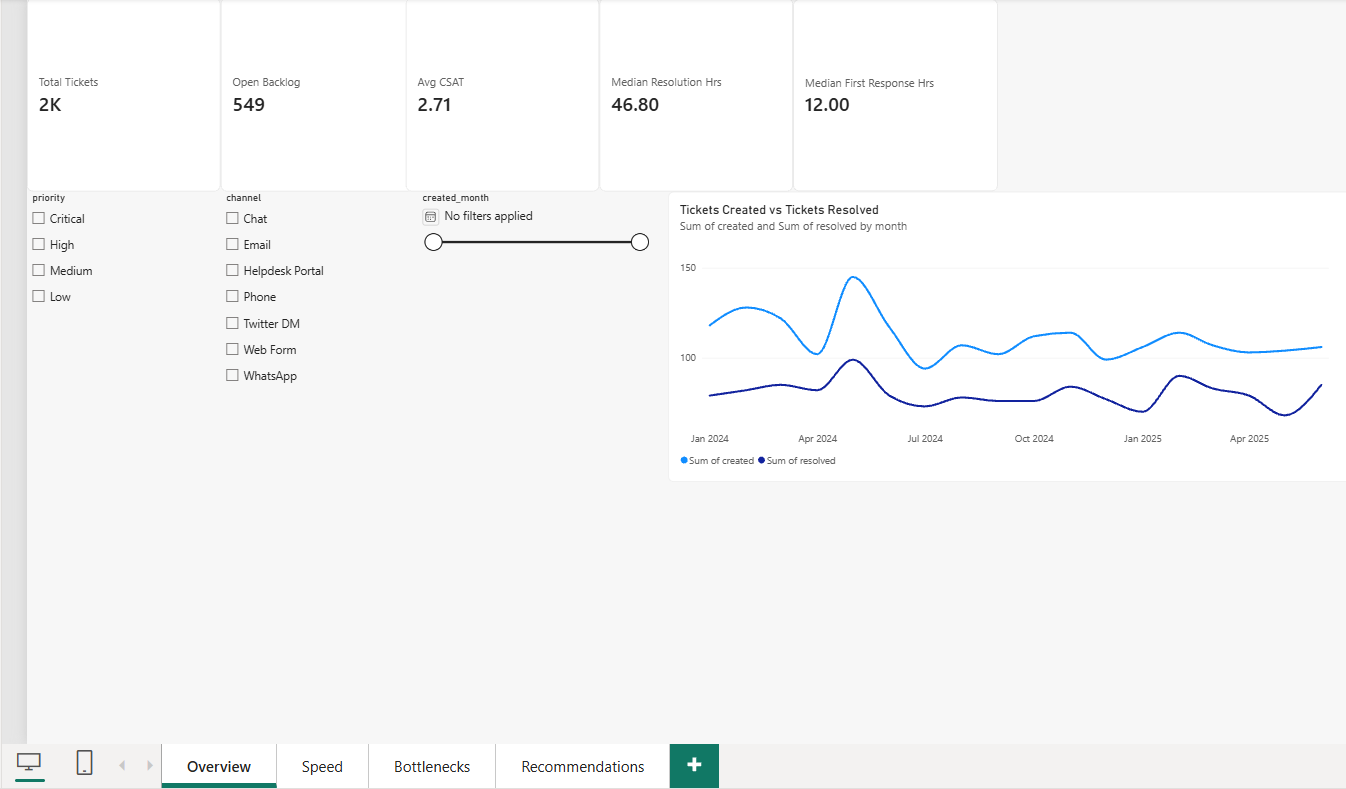

What the dashboard file says about the page in this screenshot:
{"tool":"powerbi","page":{"name":"Overview","canvas":[1920,1080],"ordinal":0},"visuals":[{"type":"cardVisual","fields":{"Data":["tickets.Total Tickets"]},"box":[0,0,280,280],"z":0},{"type":"cardVisual","fields":{"Data":["tickets.Open Backlog"]},"box":[280.5,0,280,280],"z":1000},{"type":"cardVisual","fields":{"Data":["tickets.Median Resolution Hrs"]},"box":[828.8,0,280,280],"z":2000},{"type":"cardVisual","fields":{"Data":["tickets.Median First Response Hrs"]},"box":[1109.3,1.8,296.8,278.7],"z":3000},{"type":"cardVisual","fields":{"Data":["tickets.Avg CSAT"]},"box":[548.3,0,280,280],"z":4000},{"type":"lineChart","title":"Tickets Created vs Tickets Resolved","fields":{"Category":["public v_backlog_trend.month"],"Y":["Sum(public v_backlog_trend.created)","Sum(public v_backlog_trend.resolved)"]},"box":[928.4,280.5,991.7,419.8],"z":5000},{"type":"slicer","fields":{"Values":["tickets.priority"]},"box":[0,280.5,284.1,419.8],"z":6000},{"type":"slicer","fields":{"Values":["tickets.created_month"]},"box":[564.6,280.5,338.4,419.8],"z":7000},{"type":"slicer","fields":{"Values":["tickets.channel"]},"box":[280.5,280.5,284.1,419.8],"z":8000}]}

Visuals, with their boxes on the page's 1920x1080 design canvas (x1, y1, x2, y2). These are canvas units, not pixel positions in the 1346x789 screenshot, which may show the page scaled, cropped or inside an application window:
cardVisual - tickets.Total Tickets: [0,0,280,280]
cardVisual - tickets.Open Backlog: [280,0,560,280]
cardVisual - tickets.Median Resolution Hrs: [829,0,1109,280]
cardVisual - tickets.Median First Response Hrs: [1109,2,1406,280]
cardVisual - tickets.Avg CSAT: [548,0,828,280]
"Tickets Created vs Tickets Resolved" lineChart: [928,280,1920,700]
slicer - tickets.priority: [0,280,284,700]
slicer - tickets.created_month: [565,280,903,700]
slicer - tickets.channel: [280,280,565,700]
